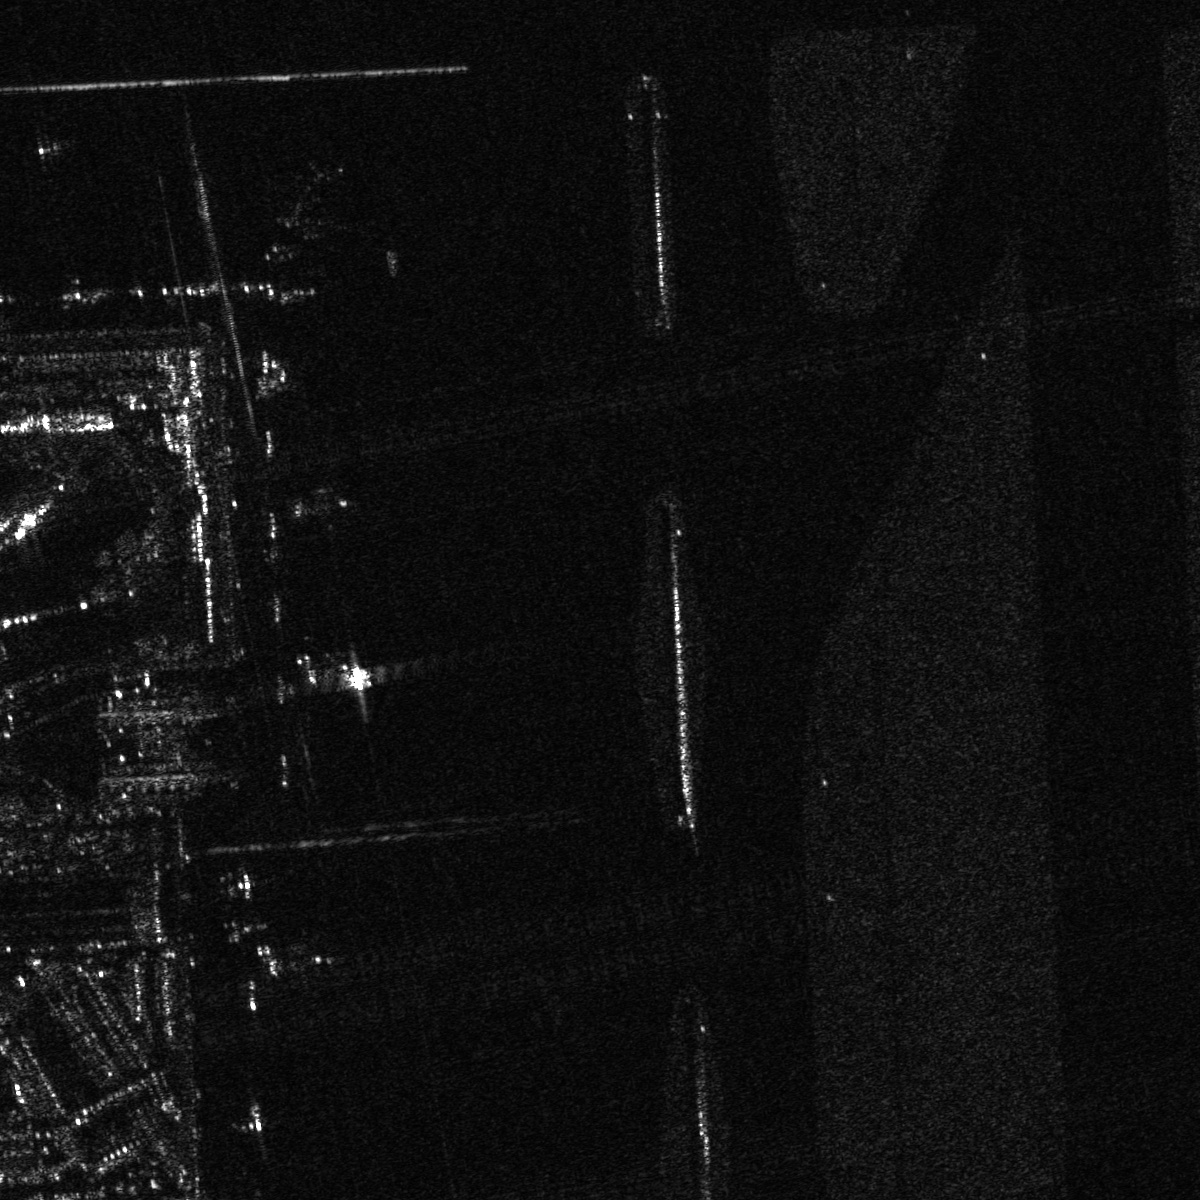A320/321: (244, 158, 340, 270)
